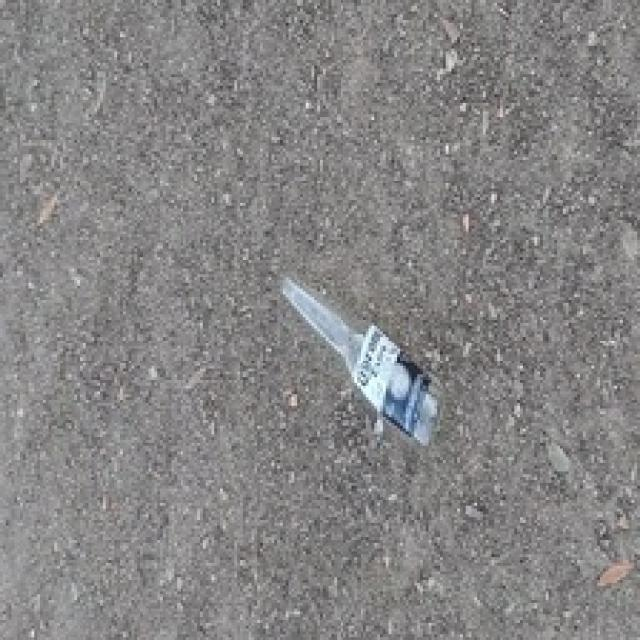Glass: (281, 272, 444, 452)
